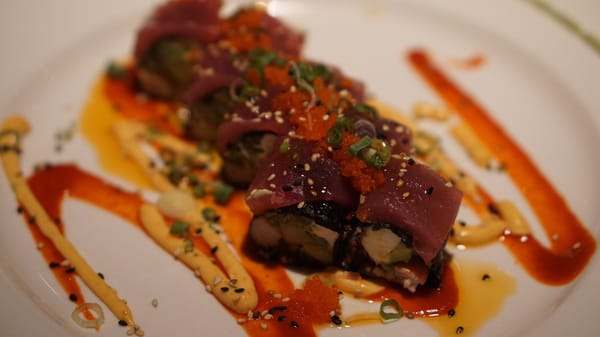sandwich: (66, 4, 592, 331)
